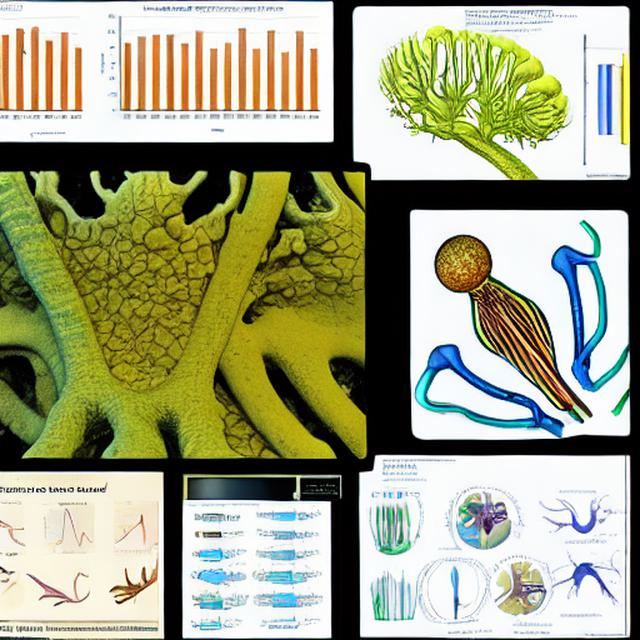Graph: (97, 1, 331, 140), (35, 499, 109, 555)
